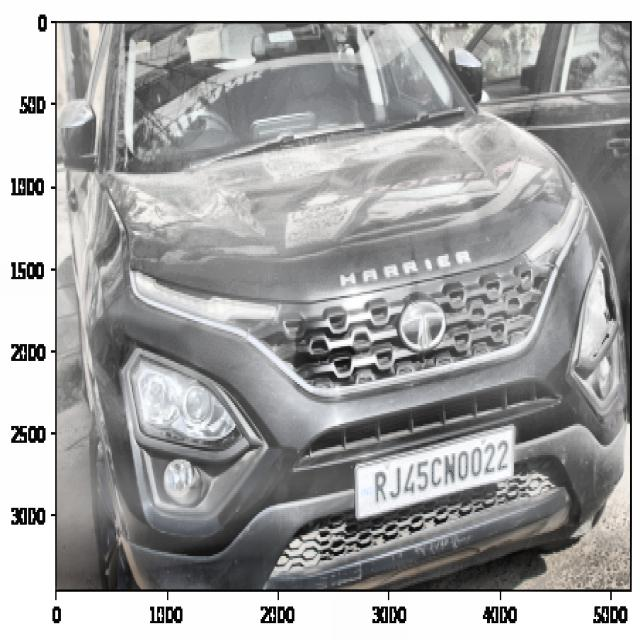license_plate: (369, 435, 511, 505)
